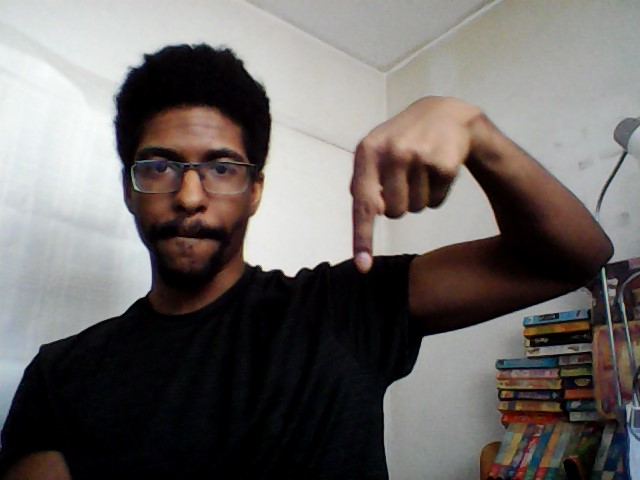q: (345, 89, 487, 277)
